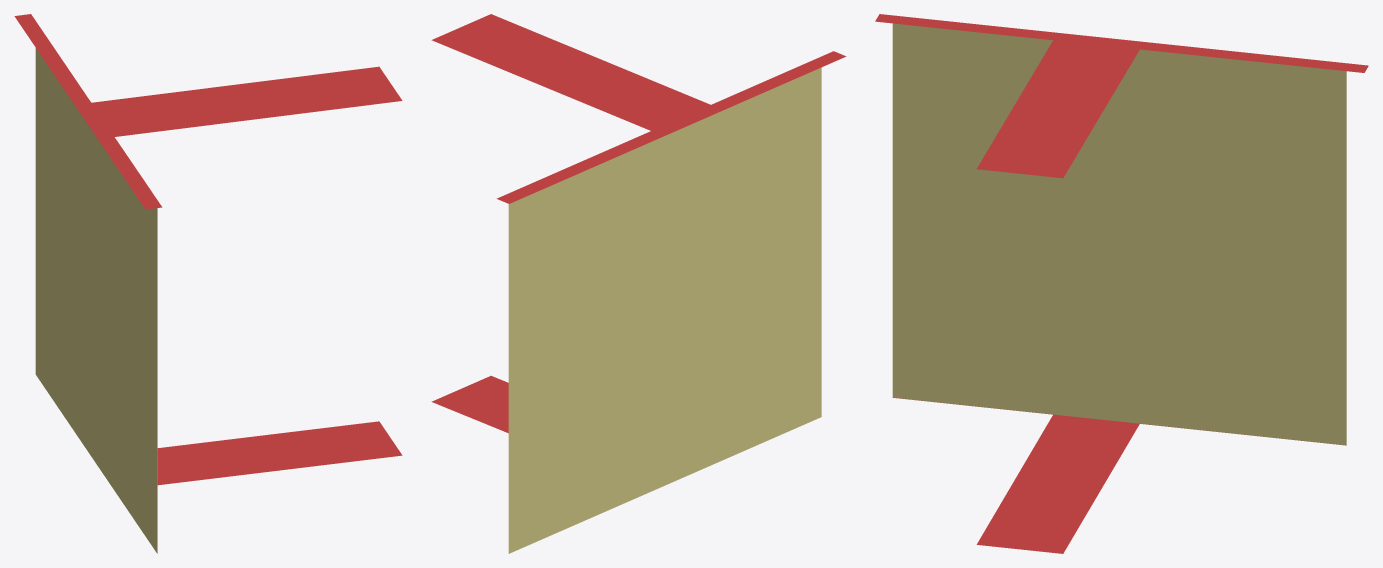
The picture shows the model from 3 angles, left to right: view 1: azimuth 30°, elevation 25°; view 2: azimuth 150°, elevation 25°; view 3: azimuth 270°, elevation 25°; orthographic projection. The views are drawn at different scales.
Bounding box in the file's own units: 5.36 × 6.75 × 5.66.
